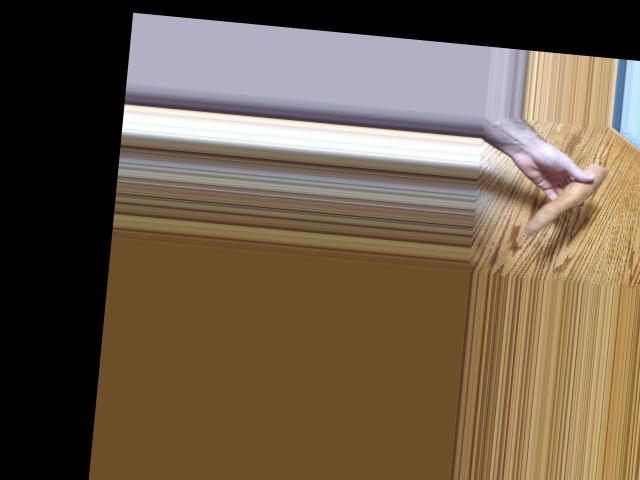sweet_potato: (525, 157, 605, 240)
